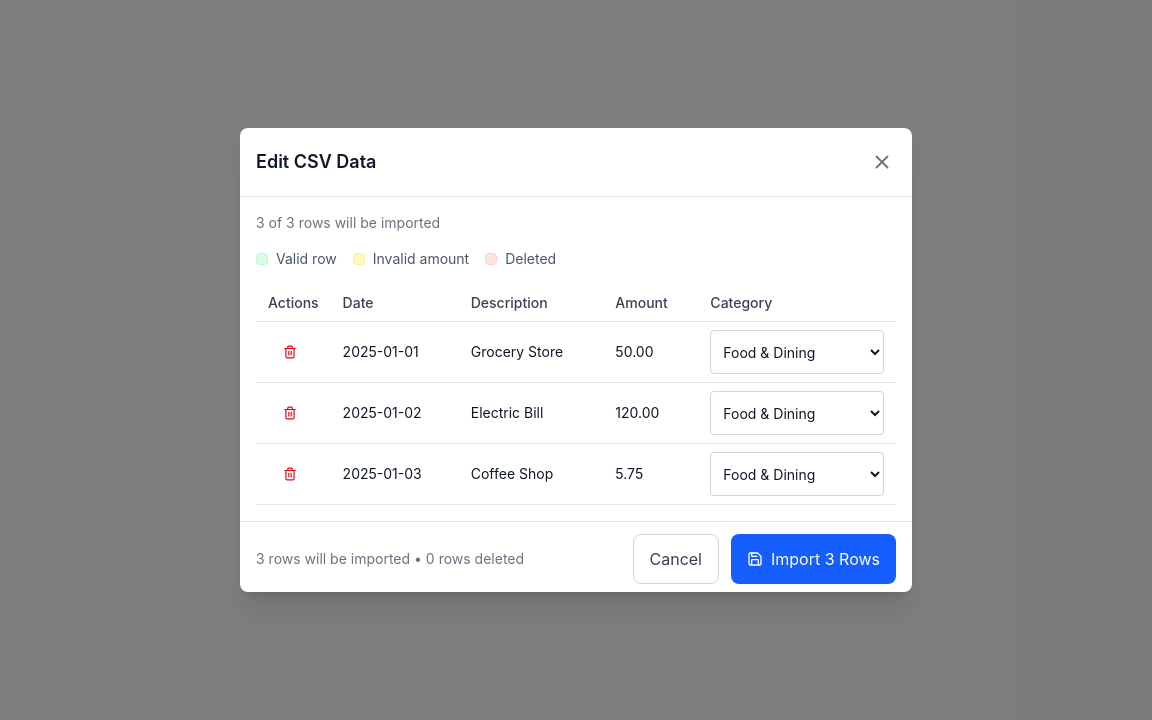
Test case: CSVPreviewEditor › clicking a cell enters edit mode and typing changes value
This screenshot has width=1152, height=720.
Click the text "Grocery Store" at [517, 352], box x1=471 y1=343 x2=563 y2=360
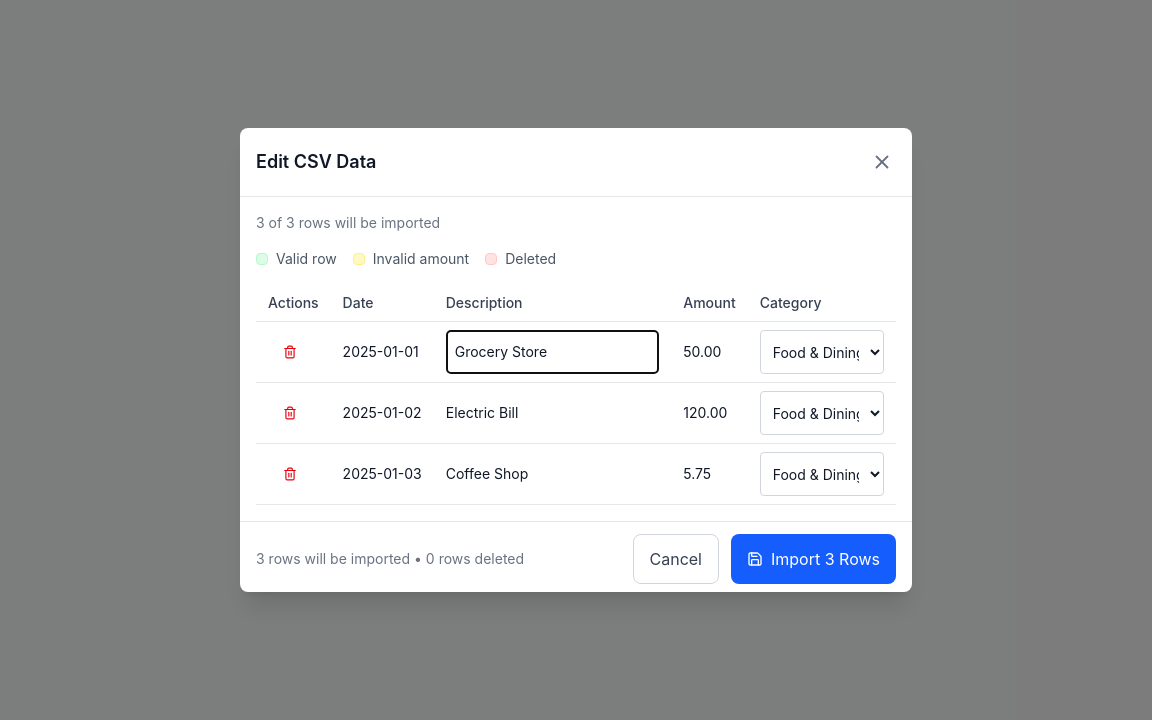
Result: the field showing "Grocery Store" is shown
Replace the text in the field showing "Grocery Store" with "Updated Store" at [552, 352], box x1=446 y1=330 x2=659 y2=374
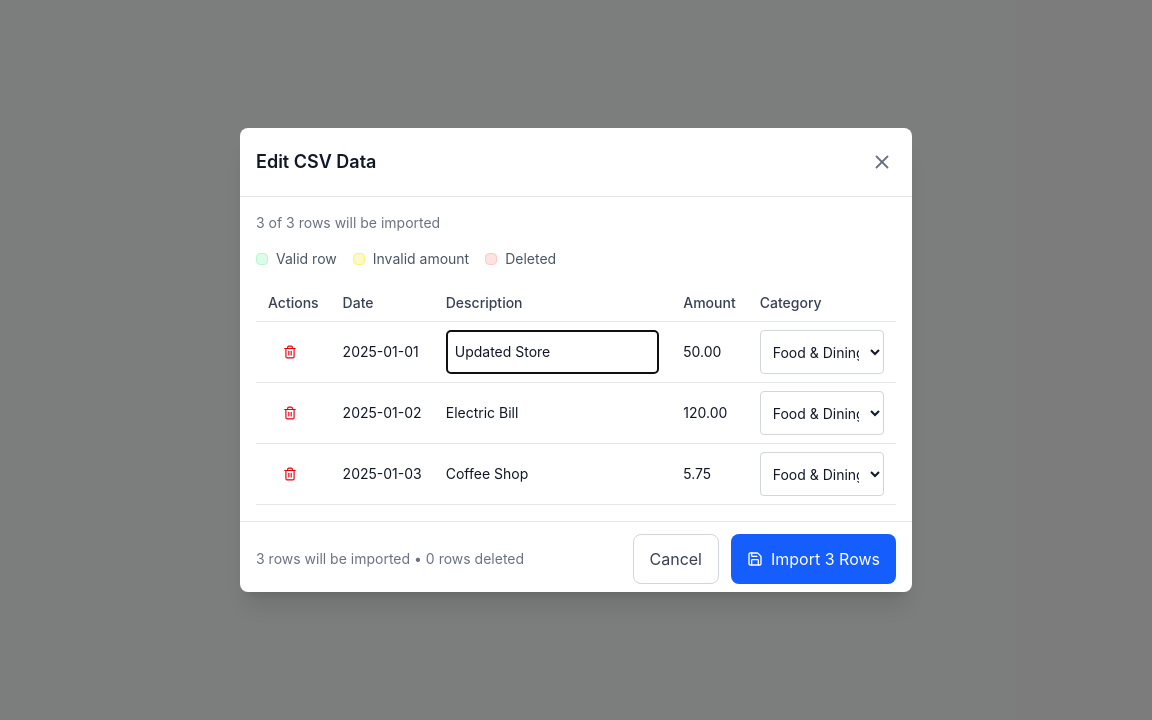
// Blur to exit edit mode
Leave the field showing "Updated Store", box x1=446 y1=330 x2=659 y2=374
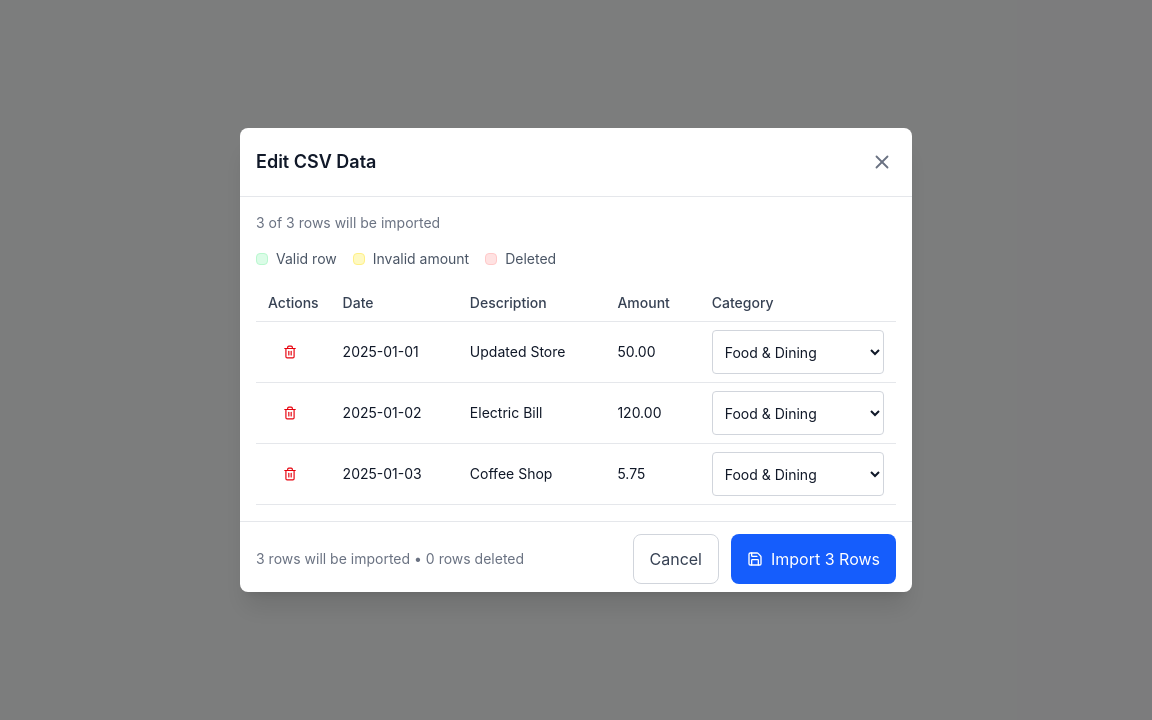
Result: the text "Updated Store" is shown at x1=470 y1=343 x2=566 y2=360
